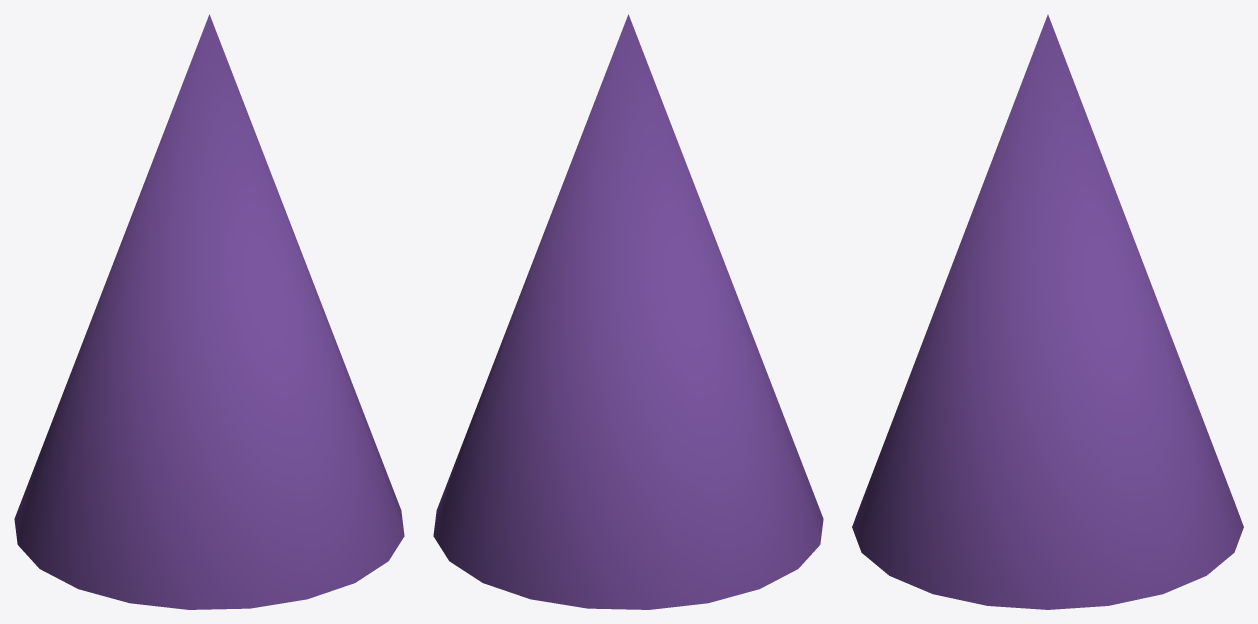
The model's file is roupa_tunica_mago.obj.
3 views of the same model, side by side, from view 1: azimuth 30°, elevation 25°; view 2: azimuth 150°, elevation 25°; view 3: azimuth 270°, elevation 25° (orthographic).
Parts seen in each view (by area): view 1: roupa_tunica_mago; view 2: roupa_tunica_mago; view 3: roupa_tunica_mago.
Part boxes in pixels (bbox=[...]): roupa_tunica_mago: bbox=[14, 14, 404, 609]; roupa_tunica_mago: bbox=[433, 14, 823, 609]; roupa_tunica_mago: bbox=[852, 14, 1243, 609].
Size of the model in its own units: 0.9 by 1.3 by 0.9.
